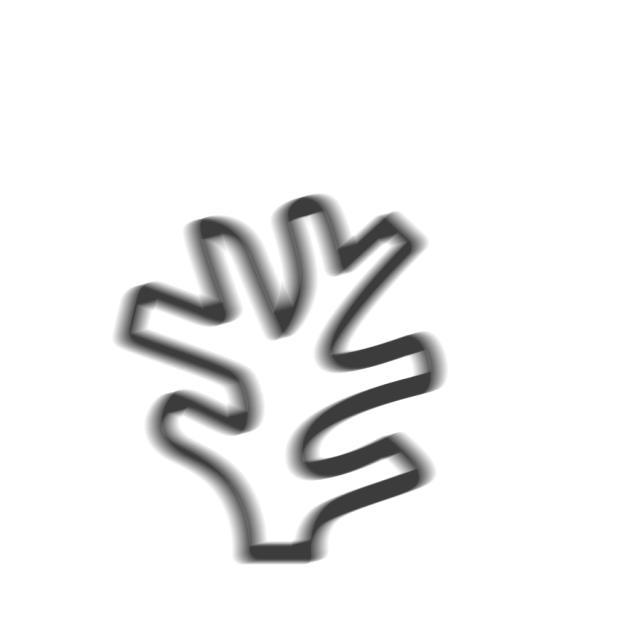coral: (107, 188, 457, 575)
